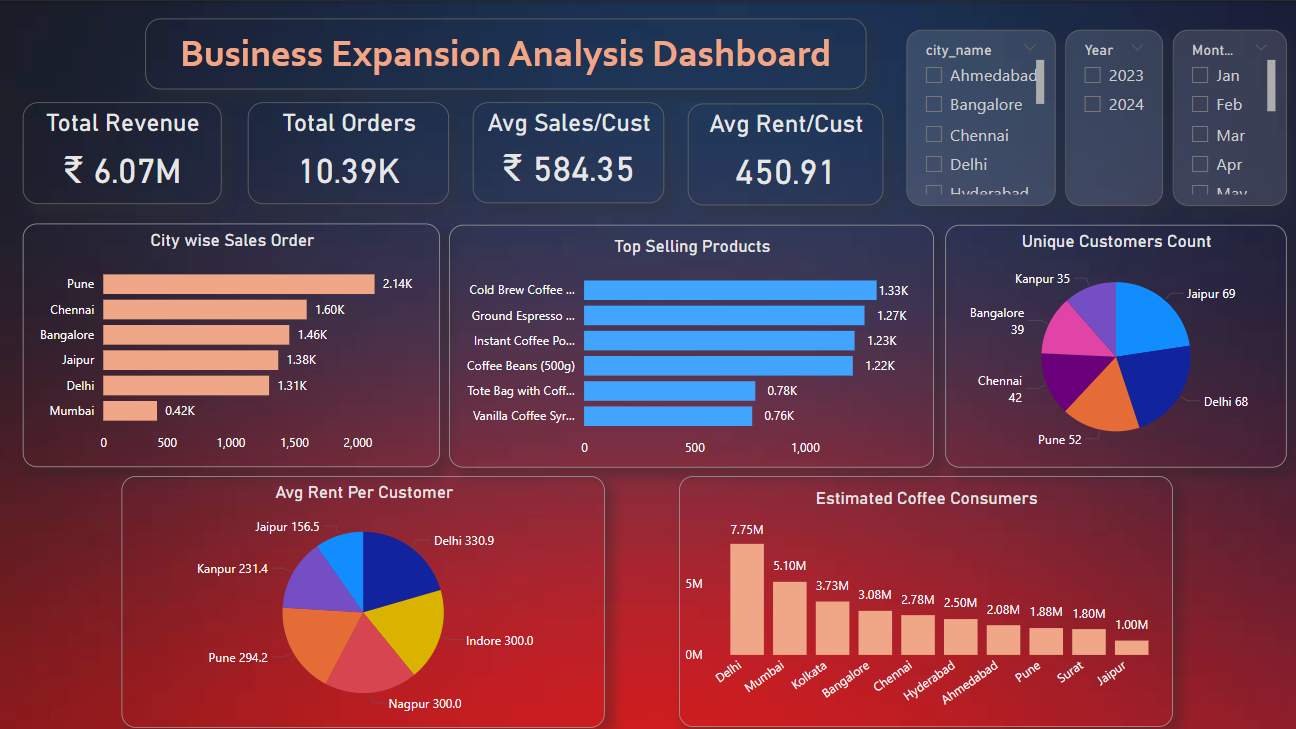

The page's visual inventory and layout, read from the dashboard file:
{"tool":"powerbi","page":{"name":"Page 1","canvas":[1280,720],"ordinal":0},"visuals":[{"type":"card","title":"Total Revenue","fields":{"Values":["Sum(sales.total)"]},"box":[23.3,98.8,194.9,100.2],"z":0},{"type":"card","title":"Total Orders","fields":{"Values":["CountNonNull(sales.sale_id)"]},"box":[244.3,98.8,197.6,100.2],"z":1},{"type":"card","title":"Avg Sales/Cust","fields":{"Values":["sales.Avg Sales per customer"]},"box":[465.2,98.8,185.2,100.2],"z":2},{"type":"card","title":"Avg Rent/Cust","fields":{"Values":["sales.Average Rent Per Customer"]},"box":[676.5,100.2,192.1,100.2],"z":3},{"type":"slicer","fields":{"Values":["Date Table.Month Name"]},"box":[1152.2,28.2,111.7,173],"z":4},{"type":"slicer","fields":{"Values":["Date Table.Year"]},"box":[1046.6,28.2,95.7,173],"z":5},{"type":"textbox","box":[143.6,17.2,708,69.9],"z":6},{"type":"clusteredBarChart","title":"City wise Sales Order","fields":{"Category":["city.city_name"],"Y":["Count(sales.sale_id)"]},"box":[23.3,218.4,409.8,239.3],"z":7},{"type":"clusteredBarChart","title":"Top Selling Products","fields":{"Category":["products.product_name"],"Y":["Count(sales.sale_id)"]},"box":[441.7,219.6,476.1,238],"z":8},{"type":"slicer","fields":{"Values":["city.city_name"]},"box":[890.8,28.2,146,173],"z":9},{"type":"pieChart","title":"Unique Customers Count","fields":{"Category":["city.city_name"],"Y":["Count(sales.customer_id)"]},"box":[928.8,219.6,335,238],"z":10},{"type":"pieChart","title":"Avg Rent Per Customer","fields":{"Category":["city.city_name"],"Y":["sales.Average Rent Per Customer"]},"box":[120.8,466.6,474.8,247],"z":11},{"type":"clusteredColumnChart","title":"Estimated Coffee Consumers ","fields":{"Category":["city.city_name"],"Y":["city.Estimated Coffee Consumers"]},"box":[667.5,466.3,484.7,246.6],"z":12}]}

Visuals, with their boxes in screenshot pixels (x1, y1, x2, y2), scaled from the page's 1280x720 canvas onto the 1296x729 screenshot:
"Total Revenue" card: crop(24, 100, 221, 201)
"Total Orders" card: crop(247, 100, 447, 201)
"Avg Sales/Cust" card: crop(471, 100, 659, 201)
"Avg Rent/Cust" card: crop(685, 101, 879, 203)
slicer - Date Table.Month Name: crop(1167, 29, 1280, 204)
slicer - Date Table.Year: crop(1060, 29, 1157, 204)
textbox: crop(145, 17, 862, 88)
"City wise Sales Order" clusteredBarChart: crop(24, 221, 439, 463)
"Top Selling Products" clusteredBarChart: crop(447, 222, 929, 463)
slicer - city.city_name: crop(902, 29, 1050, 204)
"Unique Customers Count" pieChart: crop(940, 222, 1280, 463)
"Avg Rent Per Customer" pieChart: crop(122, 472, 603, 723)
"Estimated Coffee Consumers " clusteredColumnChart: crop(676, 472, 1167, 722)
